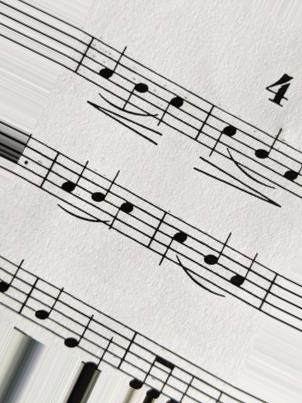note: (31, 276, 66, 344), (157, 209, 193, 273), (87, 165, 121, 232), (202, 230, 234, 298), (228, 245, 259, 312), (64, 294, 95, 359), (207, 103, 240, 164), (252, 125, 284, 186), (95, 37, 125, 99), (157, 74, 187, 135), (59, 153, 89, 213), (111, 182, 136, 244), (123, 56, 149, 112)
